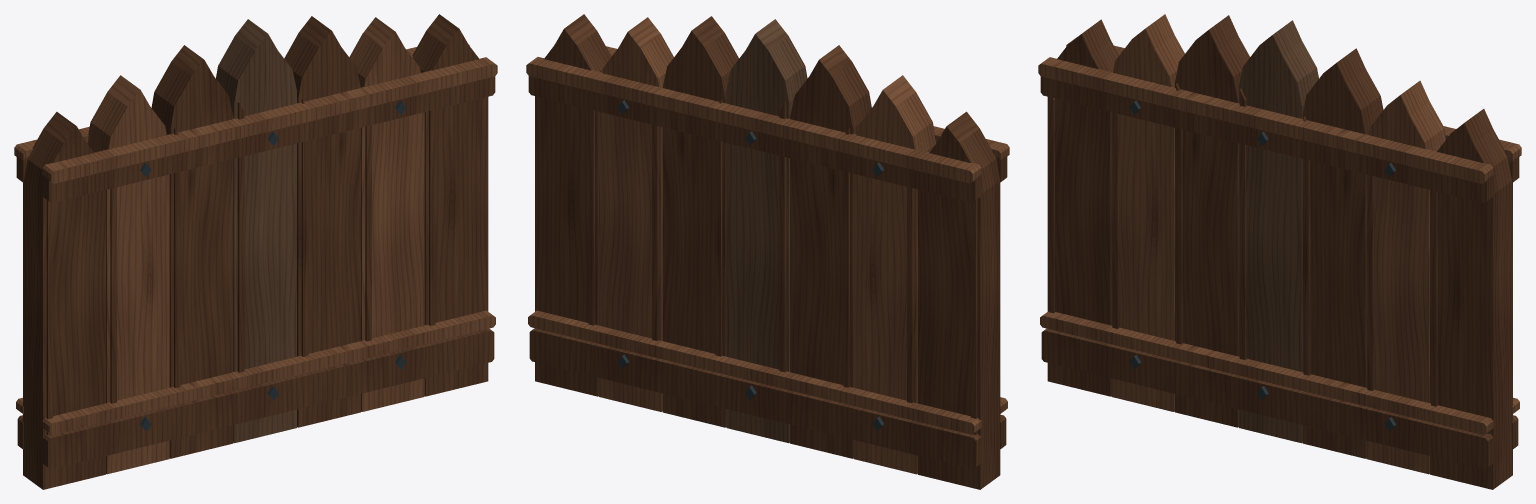
Rendered from palisade.glb.
3 renders of one model, left to right at view 1: azimuth 30°, elevation 25°; view 2: azimuth 150°, elevation 25°; view 3: azimuth 330°, elevation 25°, orthographic.
Visible parts, largest first — view 1: palisade.035; view 2: palisade.035; view 3: palisade.035.
Part boxes in pixels (left/top/right/bottom): palisade.035: left=14, top=14, right=497, bottom=489; palisade.035: left=526, top=14, right=1009, bottom=489; palisade.035: left=1038, top=14, right=1521, bottom=489.
Bounding box in the file's own units: 2.24 × 1.93 × 0.32.
Materials: 4 (3 with a texture image).
